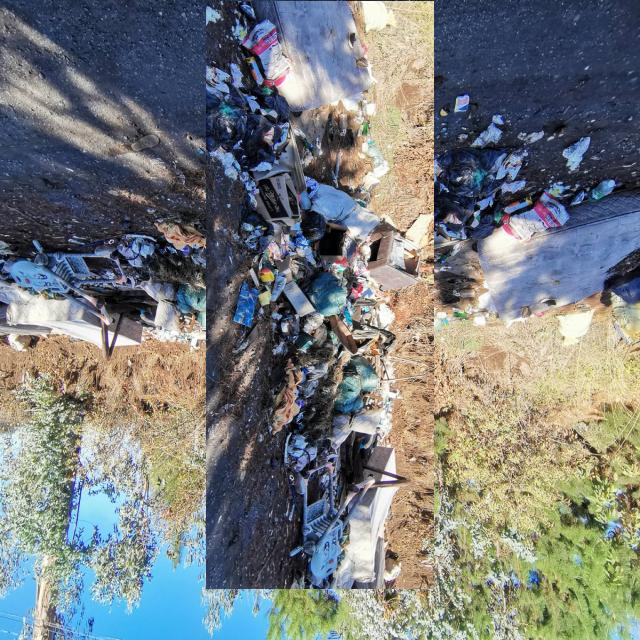garbage: (103, 52, 537, 486)
